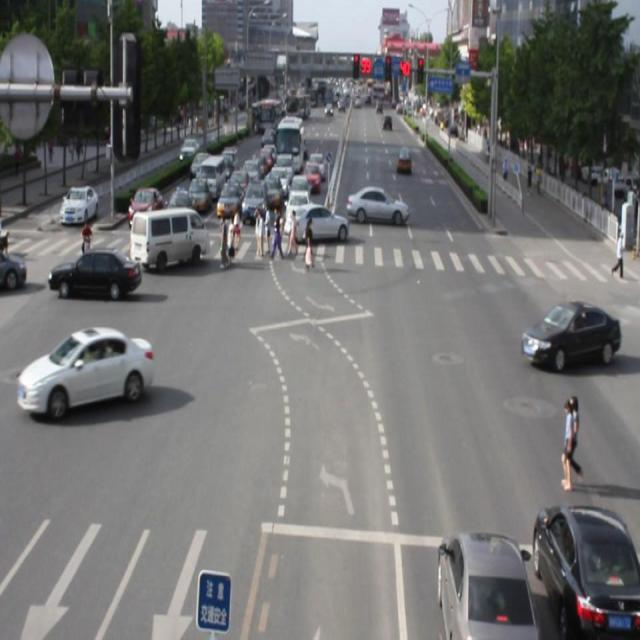car: (526, 487, 640, 640), (8, 336, 179, 426), (420, 515, 535, 640), (514, 296, 626, 378), (50, 230, 142, 308), (134, 205, 208, 281), (340, 183, 410, 244), (288, 204, 347, 248), (62, 175, 102, 229), (275, 114, 310, 175), (216, 169, 245, 224), (243, 184, 270, 232), (126, 184, 160, 219), (178, 129, 204, 170), (203, 153, 230, 192), (261, 171, 289, 208), (395, 142, 420, 183), (172, 183, 196, 216), (308, 144, 328, 183)
